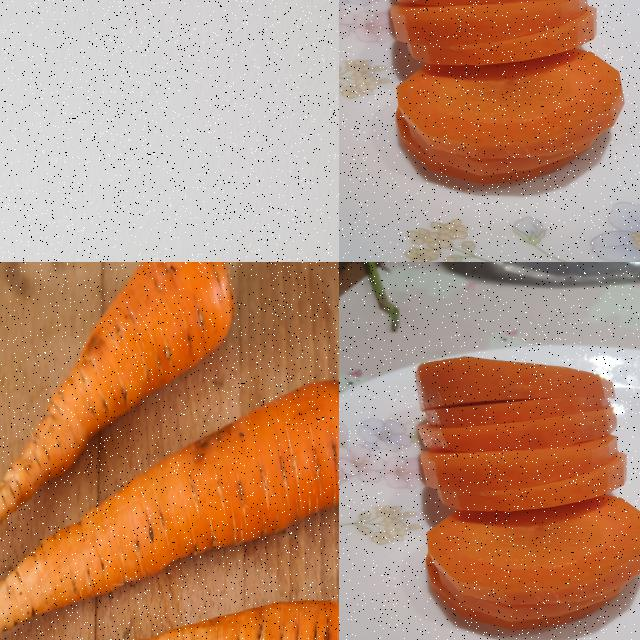carrot: (0, 370, 338, 639), (0, 262, 241, 598), (417, 358, 639, 635), (387, 0, 630, 189), (0, 593, 338, 639)
